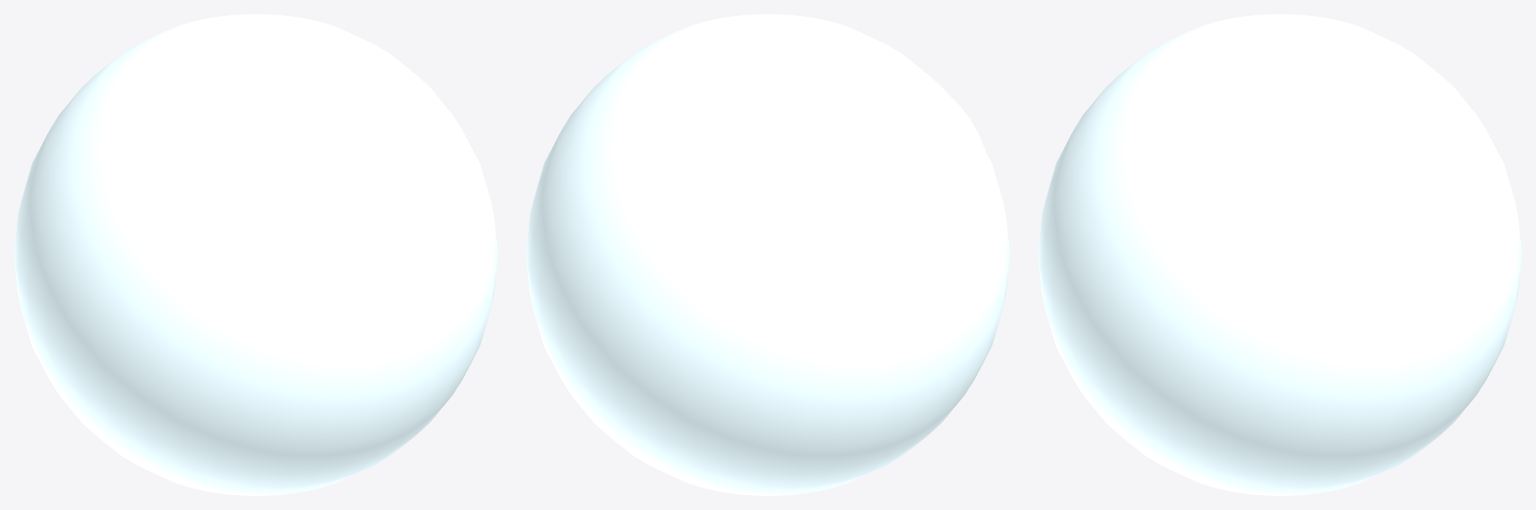
The model's file is bubble_trap.glb.
The picture shows the model from 3 angles, left to right: view 1: azimuth 30°, elevation 25°; view 2: azimuth 150°, elevation 25°; view 3: azimuth 270°, elevation 25°; orthographic projection.
Visible parts, largest first — view 1: bubble_trap; view 2: bubble_trap; view 3: bubble_trap.
Boxes of the visible parts, x1=… form: bubble_trap: x1=14, y1=14, x2=497, y2=495; bubble_trap: x1=526, y1=14, x2=1009, y2=495; bubble_trap: x1=1038, y1=14, x2=1521, y2=495.
Size of the model in its own units: 1 by 1 by 1.
